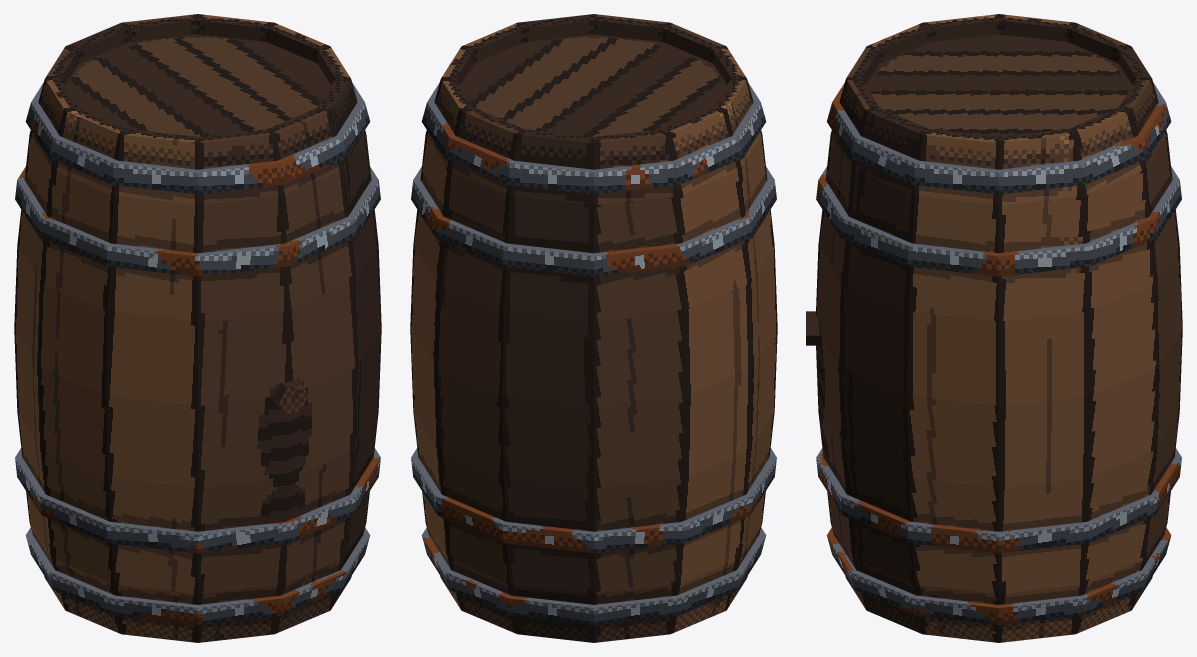
The model's file is SM_Prop_Barrel_01.glb.
3 views of the same model, side by side, from view 1: azimuth 30°, elevation 25°; view 2: azimuth 150°, elevation 25°; view 3: azimuth 270°, elevation 25° (orthographic).
Visible parts, largest first — view 1: body, hoop3, hoop2, hoop1, hoop0, bung; view 2: body, hoop3, hoop2, hoop1, hoop0; view 3: body, hoop3, hoop2, hoop1, hoop0.
Part boxes in pixels (bbox=[...]): body: bbox=[14, 14, 381, 642]; hoop3: bbox=[25, 82, 370, 194]; hoop2: bbox=[15, 166, 380, 276]; hoop1: bbox=[15, 448, 380, 553]; hoop0: bbox=[25, 527, 370, 625]; bung: bbox=[272, 379, 308, 414]; body: bbox=[410, 14, 777, 642]; hoop3: bbox=[421, 82, 766, 194]; hoop2: bbox=[411, 166, 776, 276]; hoop1: bbox=[411, 448, 776, 553]; hoop0: bbox=[421, 527, 766, 625]; body: bbox=[816, 14, 1182, 642]; hoop3: bbox=[826, 82, 1171, 194]; hoop2: bbox=[816, 166, 1181, 276]; hoop1: bbox=[816, 448, 1181, 553]; hoop0: bbox=[826, 527, 1171, 625].
Bounding box in the file's own units: 0.6 × 0.9 × 0.615.
Materials: 1 (1 with a texture image).
